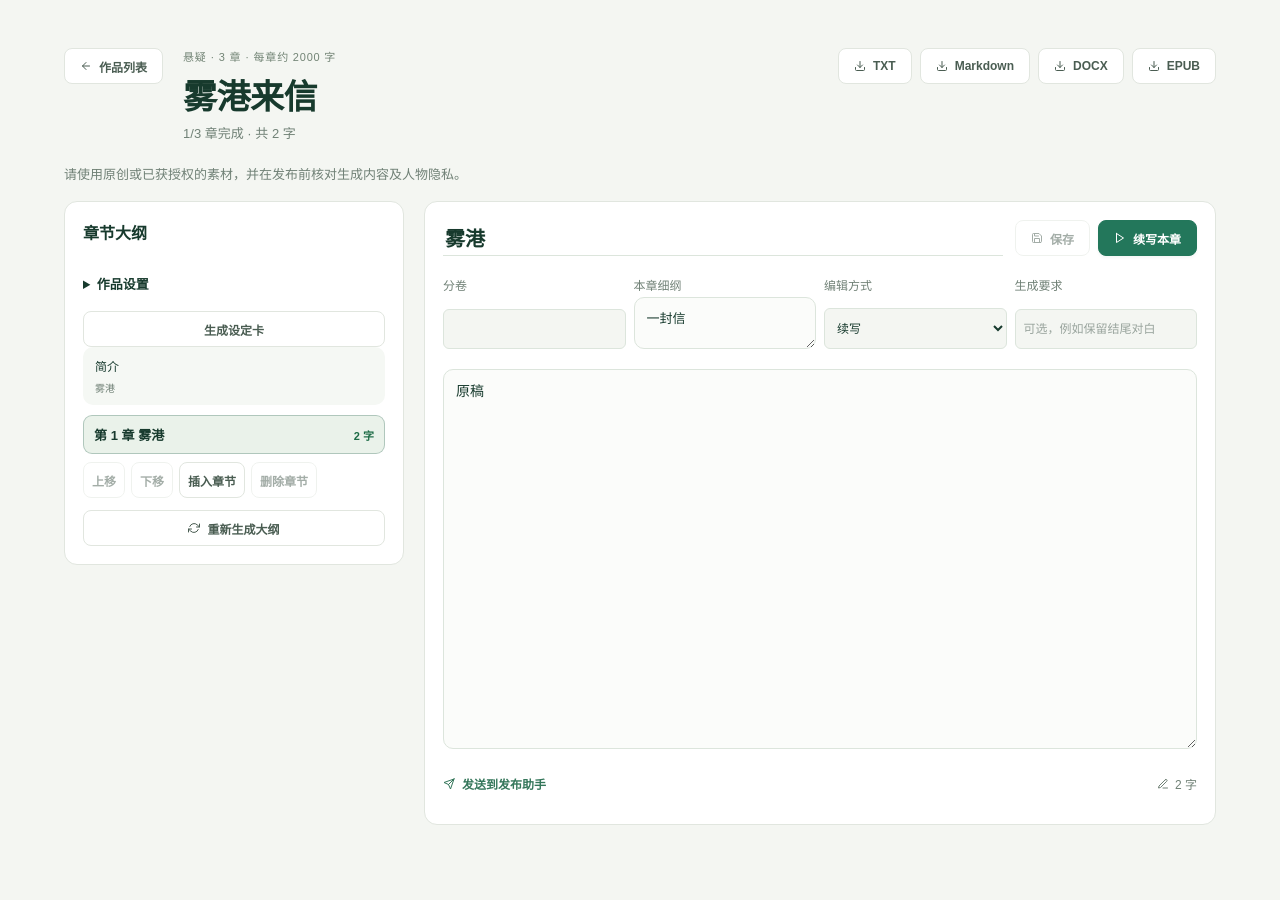
Test case: 润色使用已保存版本，生成后在编辑器中显示新正文
Expected: the text box showing "原稿" is shown, [443,369,1197,749]
Select "润色" in the dropdown labelled "编辑方式" at (915, 328), box [824,308,1006,349]
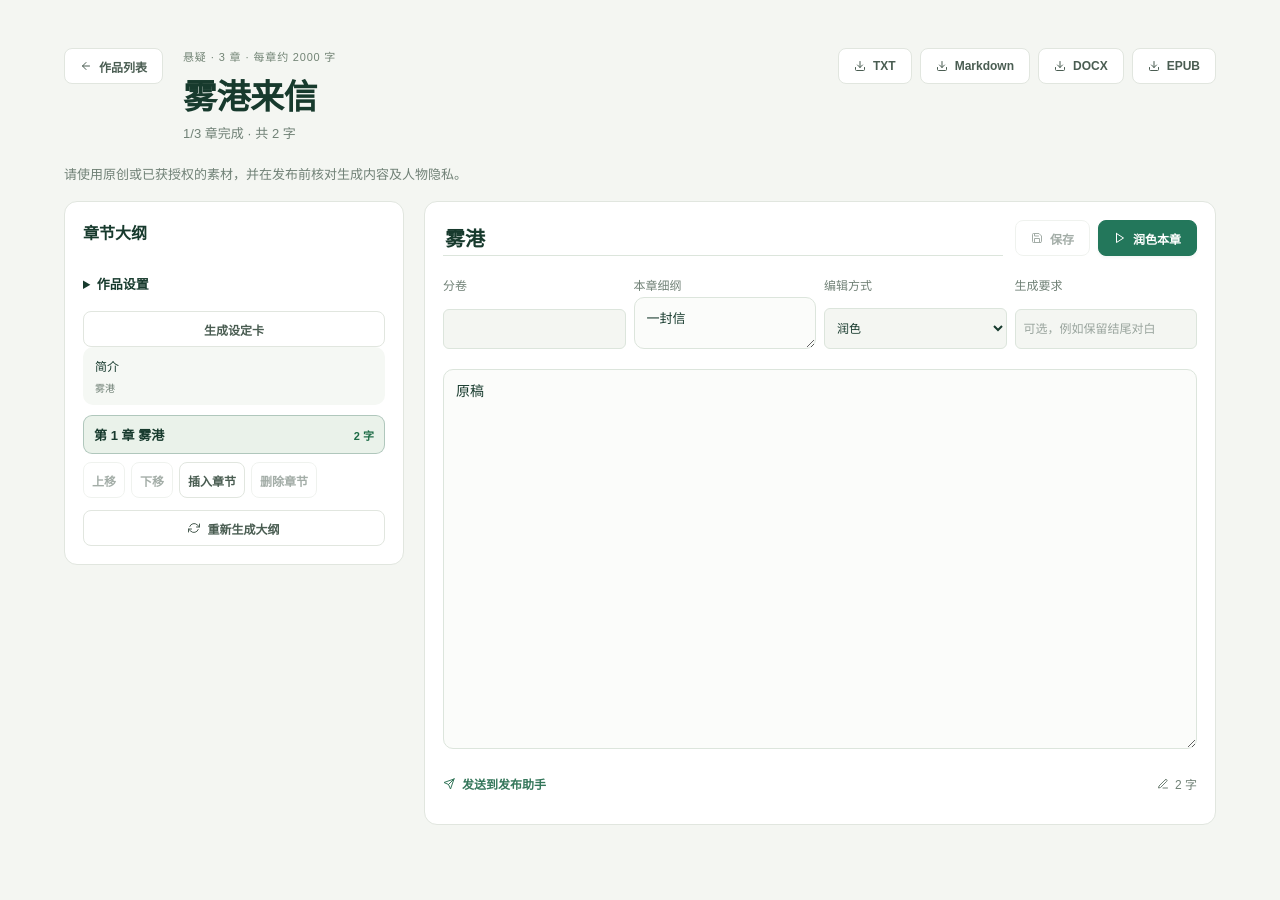
Click the button "润色本章" at (1148, 238), box [1098,220,1197,256]
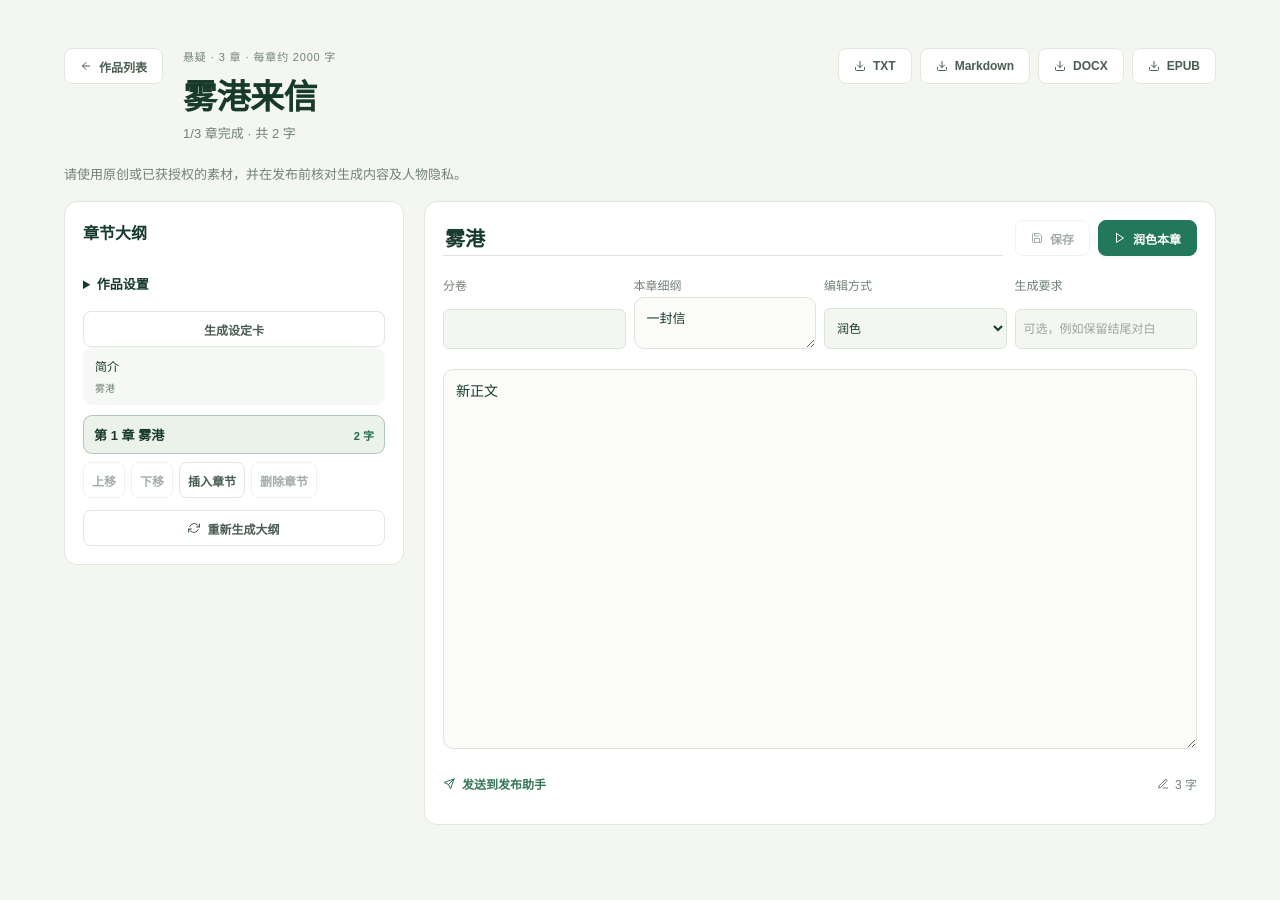
Expected: the text box showing "新正文" is shown, [443,369,1197,749]
